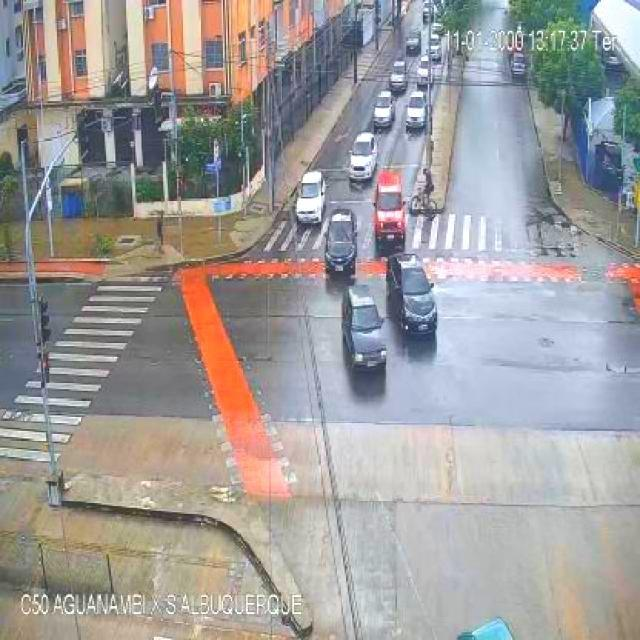Car: (384, 254, 437, 336), (341, 287, 387, 371), (324, 208, 358, 276), (295, 171, 327, 225), (348, 133, 378, 179), (406, 92, 428, 129), (373, 91, 394, 127), (389, 65, 408, 92), (510, 51, 528, 78), (417, 56, 431, 85), (406, 33, 420, 53), (428, 40, 441, 60), (422, 4, 432, 23), (432, 22, 444, 37)
Cycle: (407, 192, 439, 220)
Van: (372, 170, 406, 254)
